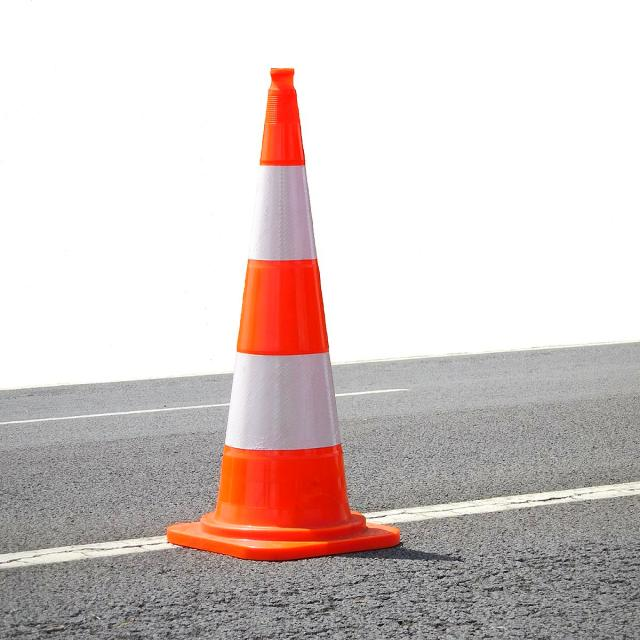cone: (154, 63, 403, 563)
